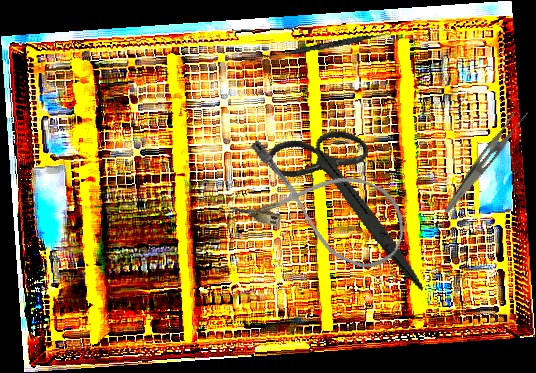Cannula: (224, 134, 419, 279)
Dressing Forceps: (442, 102, 531, 222)
Iris Scissors: (242, 110, 463, 292)
Spatula Surgical: (261, 28, 392, 63)
